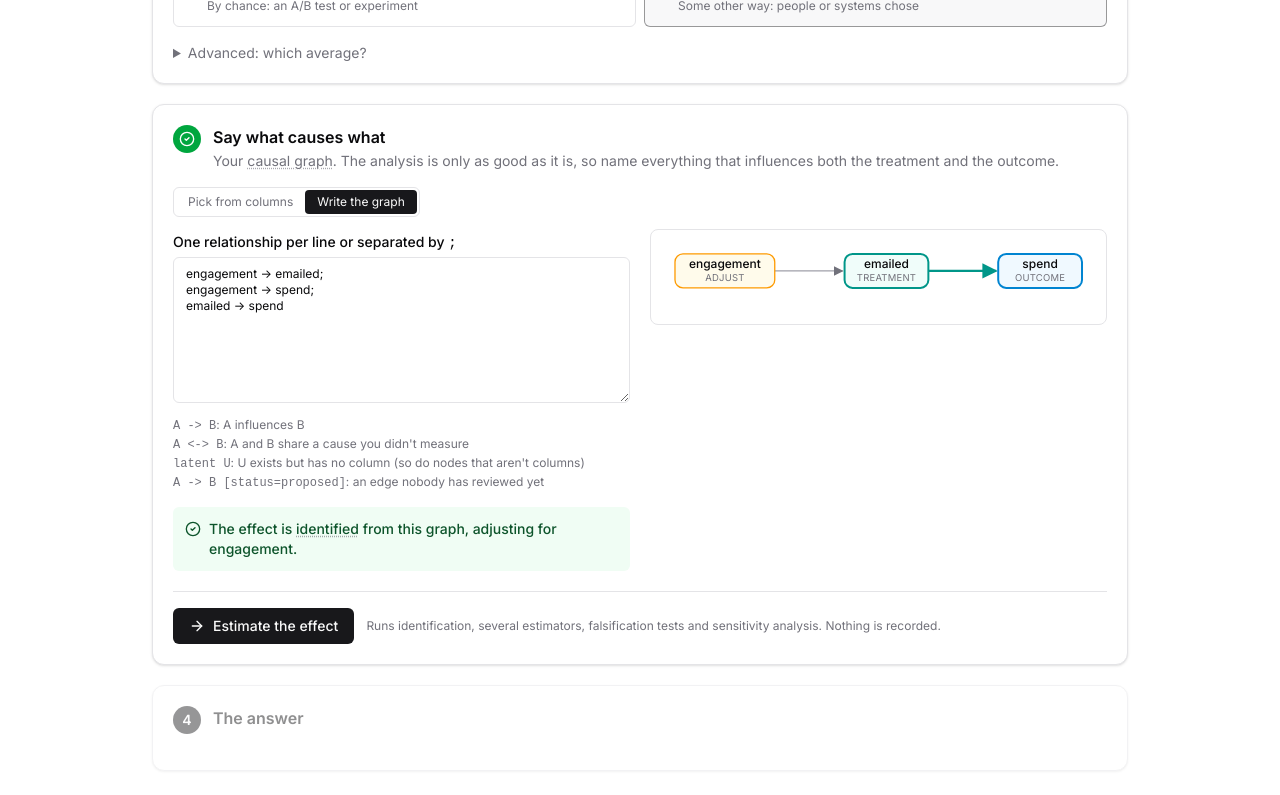
Test: /analyze › runs an example from data to a recorded decision
(page scrolled)
Check: the text "adjusting for engagement" is shown, box [209, 520, 557, 557]
What coordinates should you click on to do the following:
click the button "Estimate the effect"
I would click on:
 (264, 626)
Its box is [173, 608, 354, 644].
(page scrolled)
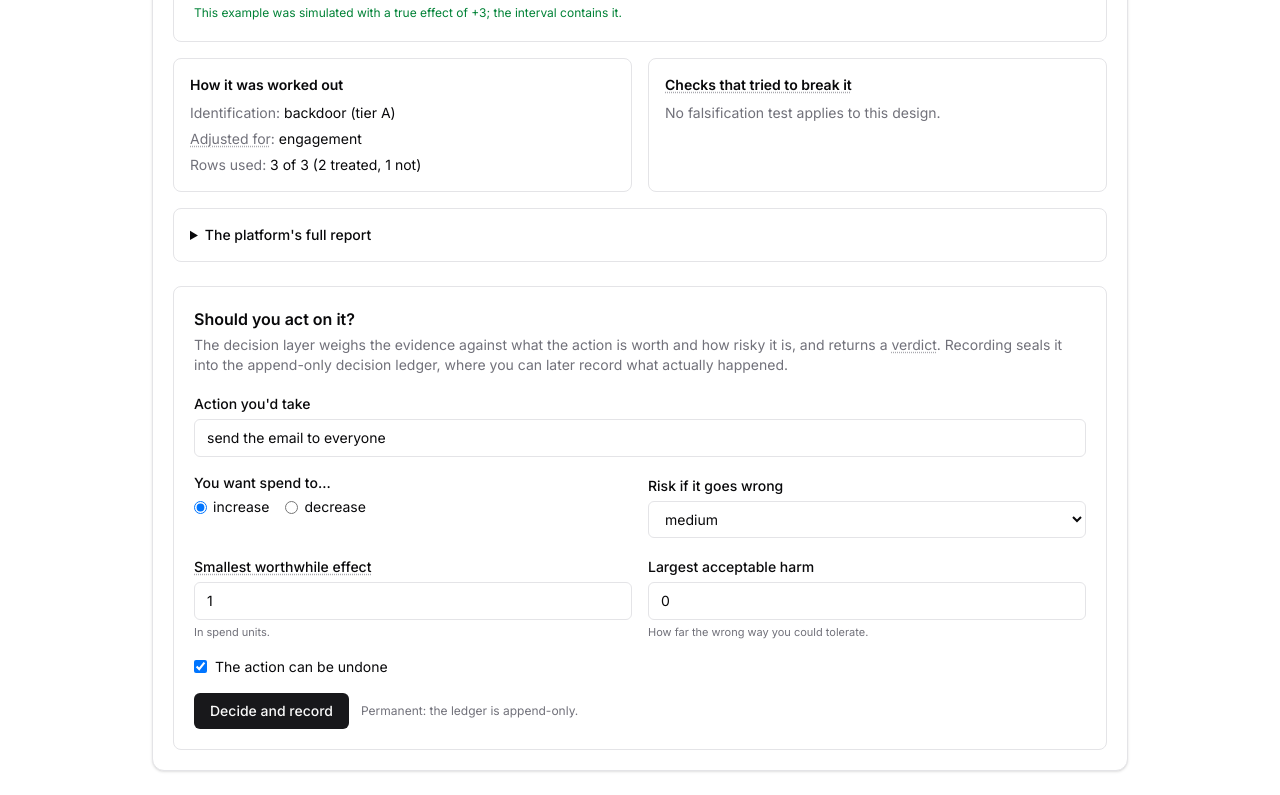
Check: the text "the interval contains it" is shown, box [494, 5, 622, 20]
Check: the field labelled "Action you'd take" holds "send the email to everyone", box [194, 419, 1086, 457]
What coordinates should you click on to do the following:
click the button "Decide and record"
I would click on:
 (272, 710)
Its box is [194, 692, 349, 728].
(page scrolled)
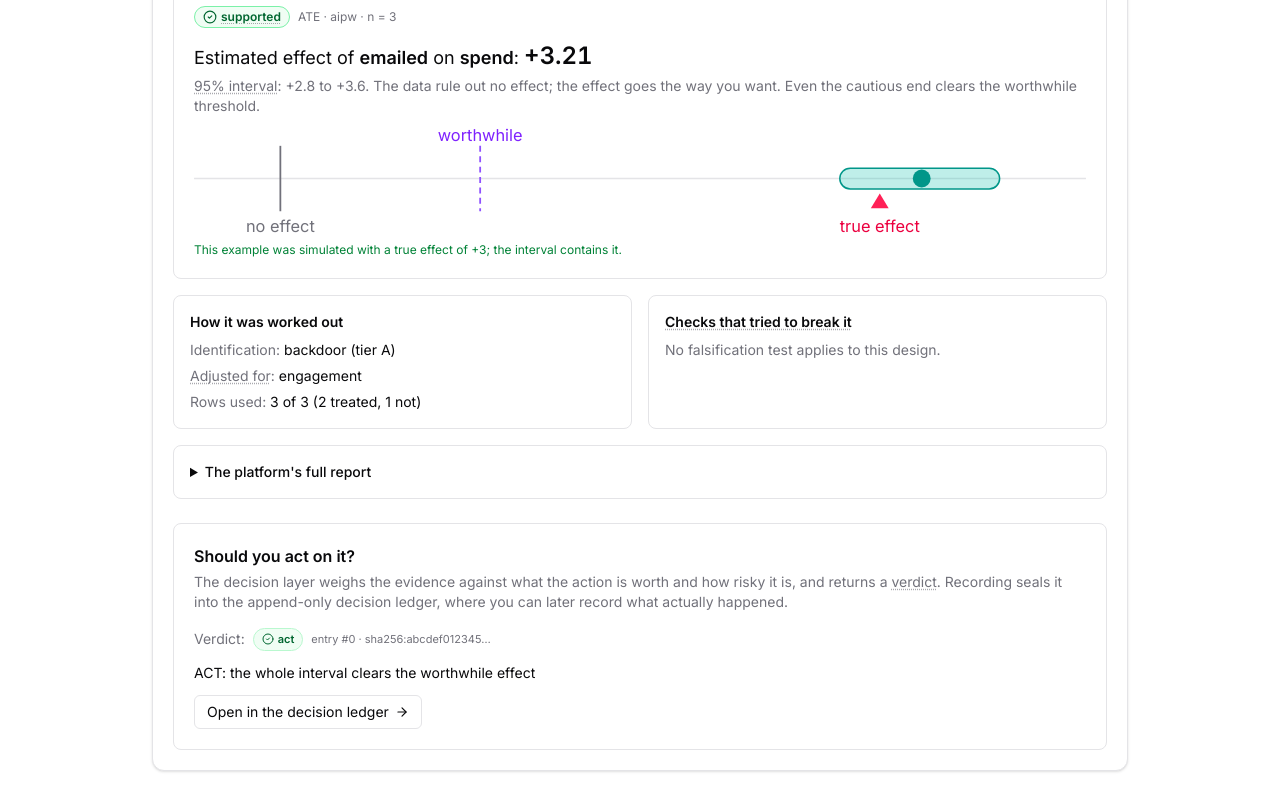
Check: the text "entry #0 · sha256:abcdef012345…" is shown, box [311, 631, 491, 648]
